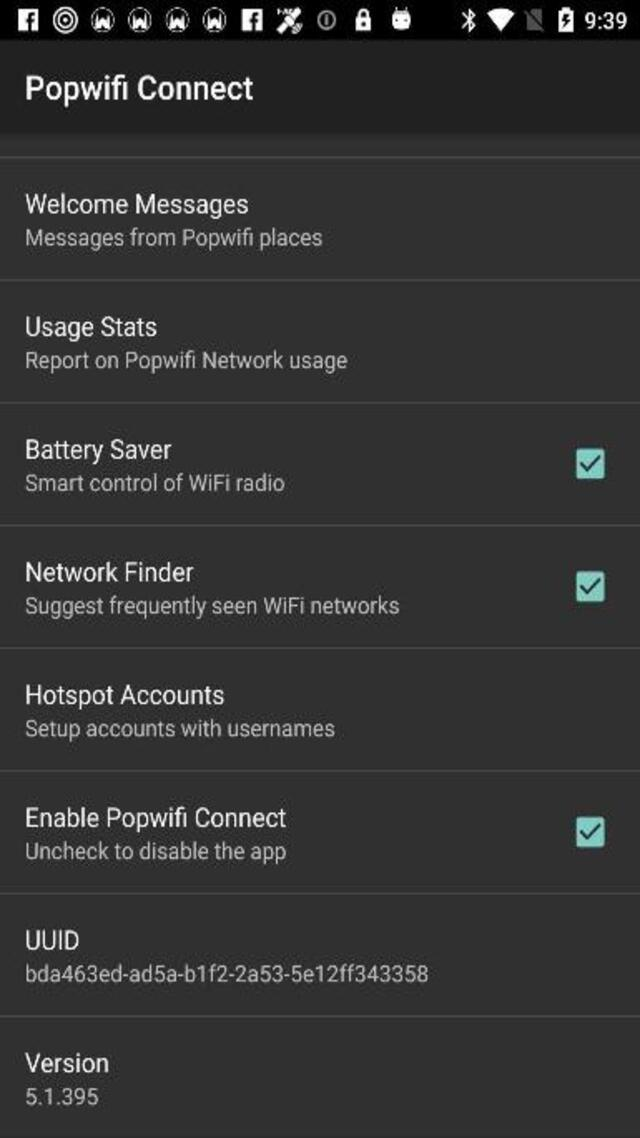CheckedTextView: (575, 816, 605, 848), (575, 448, 605, 480), (575, 572, 605, 602)
Text: (26, 595, 400, 618), (26, 962, 428, 982), (27, 804, 286, 832), (26, 74, 252, 106), (26, 350, 347, 372), (26, 227, 322, 250), (25, 718, 334, 740), (25, 191, 248, 218), (27, 840, 286, 863), (25, 472, 284, 492), (25, 684, 224, 709), (27, 438, 172, 465), (25, 560, 194, 581), (27, 316, 156, 342), (25, 1051, 108, 1072), (26, 1086, 97, 1104), (26, 928, 80, 949)
